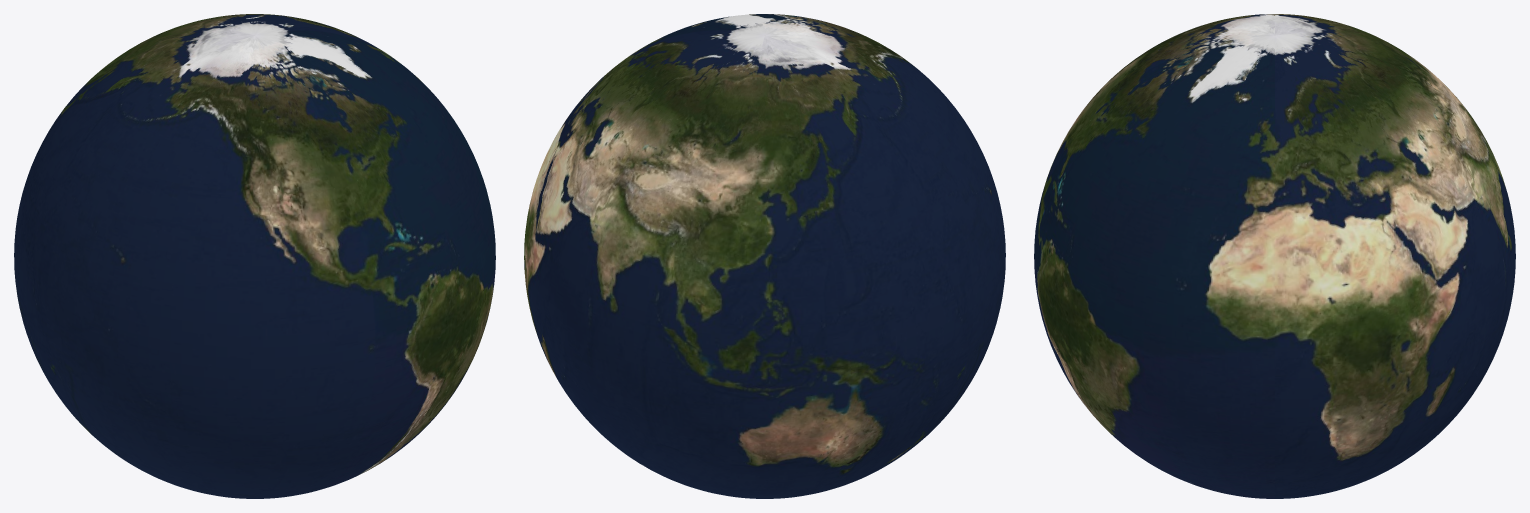
File: Earth.glb
3 views of the same model, side by side, from view 1: azimuth 30°, elevation 25°; view 2: azimuth 150°, elevation 25°; view 3: azimuth 270°, elevation 25° (orthographic).
Visible parts, largest first — view 1: Sphere; view 2: Sphere; view 3: Sphere.
Part boxes in pixels (x1,y1,x2,y2): Sphere: (14, 14, 495, 498); Sphere: (524, 14, 1005, 498); Sphere: (1034, 14, 1515, 498).
Size of the model in its own units: 197 by 199 by 197.
1 material, 1 textured.
